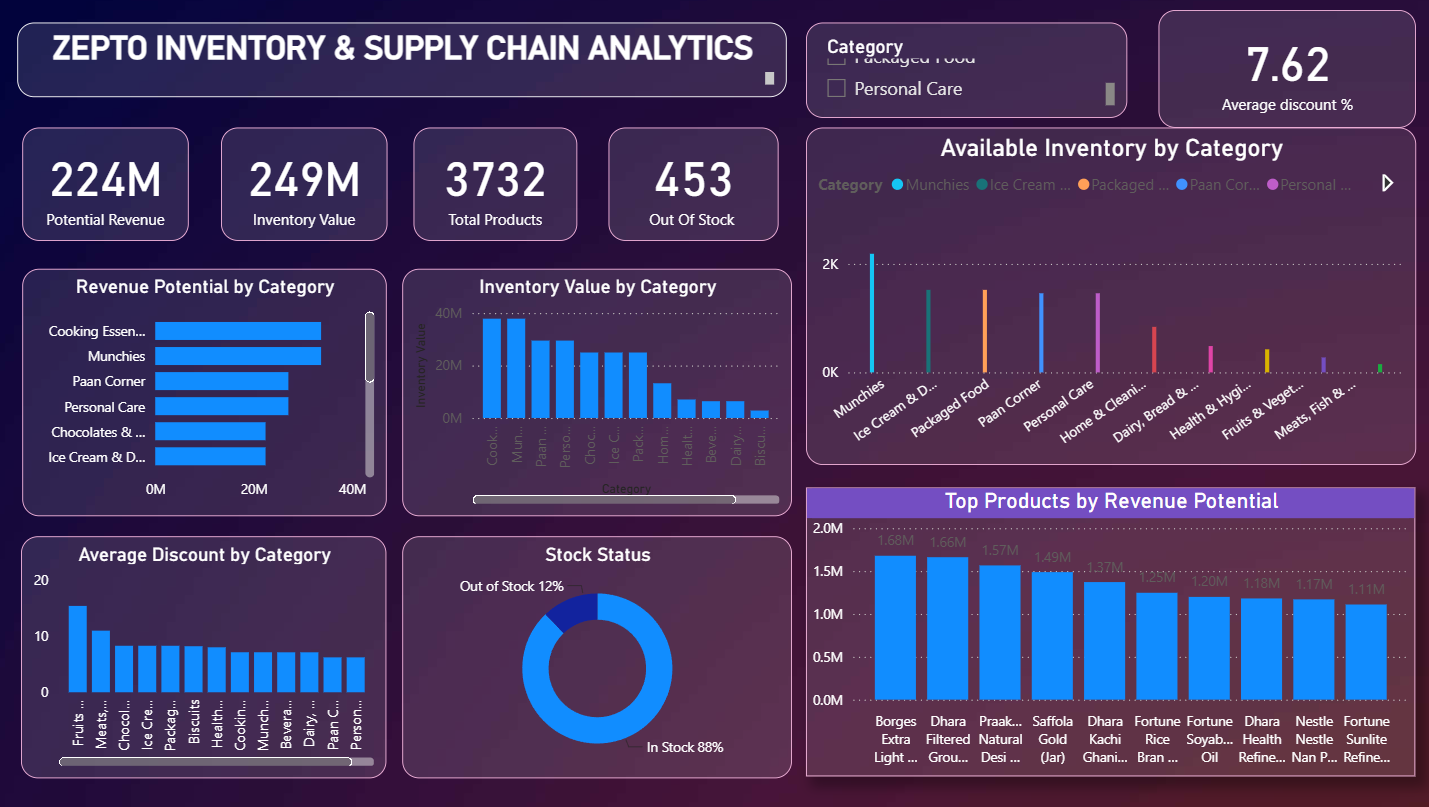

This screenshot's page, from the dashboard's own definition file:
{"tool":"powerbi","page":{"name":"Page 1","canvas":[1280,720],"ordinal":0},"visuals":[{"type":"clusteredColumnChart","title":"Available Inventory by Category","fields":{"Series":["zepto.Category"],"Y":["Sum(zepto.availableQuantity)"],"Category":["zepto.Category"]},"box":[720,113.3,542.2,300],"z":0},{"type":"clusteredColumnChart","fields":{"Y":["zepto.Inventory Value"],"Category":["zepto.Category"]},"box":[360.7,239.3,346.4,220.2],"z":1000},{"type":"donutChart","title":"Stock Status","fields":{"Y":["zepto.Total Products"],"Category":["zepto.Stock Status"]},"box":[360.7,476.2,346.4,215.5],"z":2000},{"type":"card","fields":{"Values":["zepto.Revenue Potential"]},"box":[23.8,113.1,147.6,101.2],"z":3000},{"type":"card","fields":{"Values":["zepto.Inventory Value"]},"box":[200,113.1,147.6,101.2],"z":4000},{"type":"card","fields":{"Values":["zepto.Total Products"]},"box":[371.4,113.1,145.2,101.2],"z":5000},{"type":"card","fields":{"Values":["zepto.Out Of Stock Products"]},"box":[544.1,113.1,151.2,101.2],"z":6000},{"type":"clusteredBarChart","fields":{"Category":["zepto.Category"],"Y":["zepto.Revenue Potential"]},"box":[23.8,239.3,323.8,220.2],"z":7000},{"type":"clusteredColumnChart","fields":{"Category":["zepto.Category"],"Y":["zepto.Average Discount"]},"box":[22.6,476.2,325,215.5],"z":8000},{"type":"textbox","title":"ZEPTO INVENTORY & SUPPLY CHAIN ANALYTICS","box":[18.6,19.8,683.7,66.3],"z":9000},{"type":"slicer","fields":{"Values":["zepto.Category"]},"box":[720,20,285.6,84.4],"z":10000},{"type":"clusteredColumnChart","title":"Top Products by Revenue Potential","fields":{"Category":["zepto.name"],"Y":["zepto.Revenue Potential"]},"box":[719.8,433.7,541.9,257],"z":12000},{"type":"card","fields":{"Values":["Avg(zepto.discountPercent)"]},"box":[1033.3,8.9,228.9,104.4],"z":12001}]}

Visuals, with their boxes in screenshot pixels (x1, y1, x2, y2), scaled from the page's 1280x720 canvas onto the 1429x807 screenshot:
"Available Inventory by Category" clusteredColumnChart: <box>804,127,1409,463</box>
clusteredColumnChart - zepto.Inventory Value x zepto.Category: <box>403,268,789,515</box>
"Stock Status" donutChart: <box>403,534,789,775</box>
card - zepto.Revenue Potential: <box>27,127,191,240</box>
card - zepto.Inventory Value: <box>223,127,388,240</box>
card - zepto.Total Products: <box>415,127,577,240</box>
card - zepto.Out Of Stock Products: <box>607,127,776,240</box>
clusteredBarChart - zepto.Category x zepto.Revenue Potential: <box>27,268,388,515</box>
clusteredColumnChart - zepto.Category x zepto.Average Discount: <box>25,534,388,775</box>
"ZEPTO INVENTORY & SUPPLY CHAIN ANALYTICS" textbox: <box>21,22,784,97</box>
slicer - zepto.Category: <box>804,22,1123,117</box>
"Top Products by Revenue Potential" clusteredColumnChart: <box>804,486,1409,774</box>
card - Avg(zepto.discountPercent): <box>1154,10,1409,127</box>
